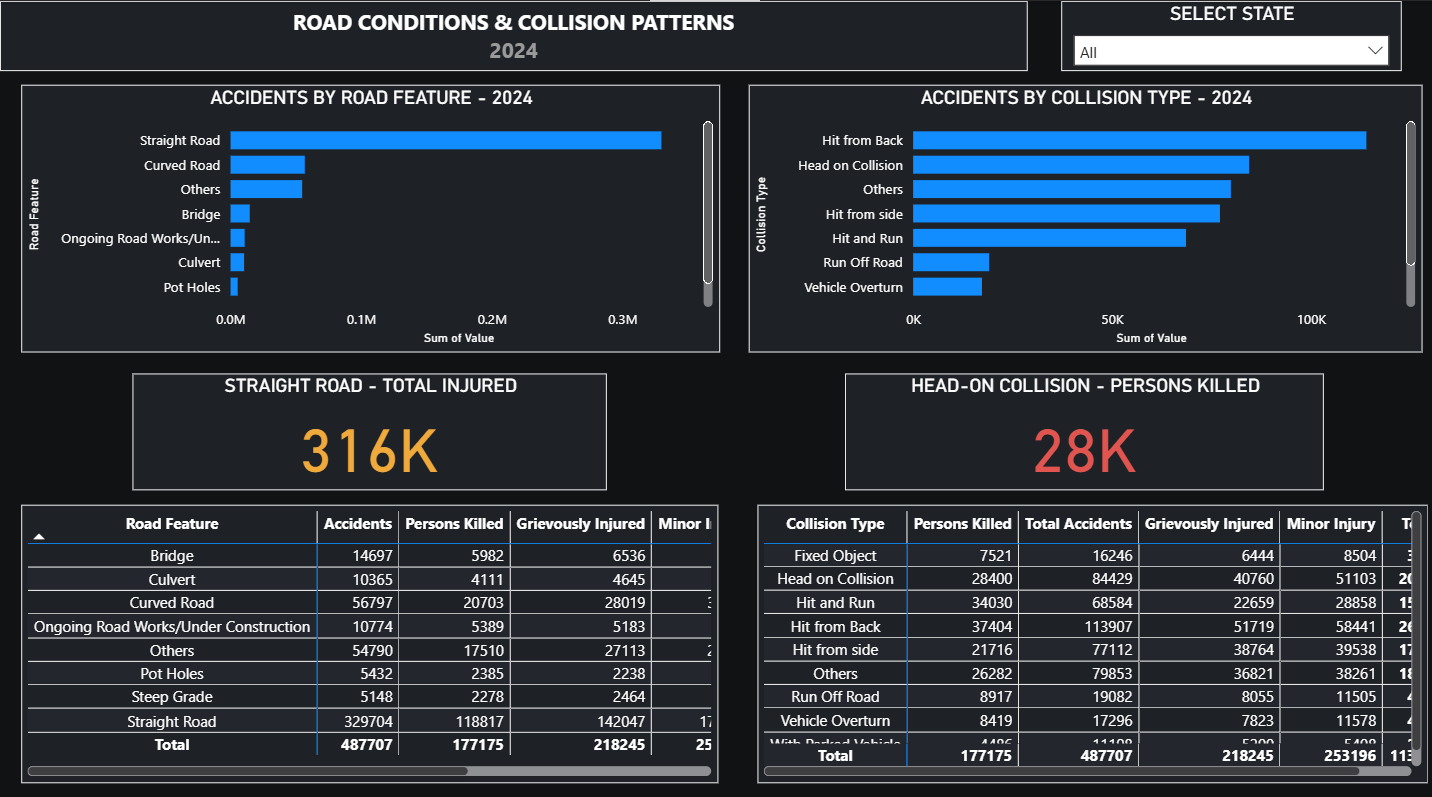

What the dashboard file says about the page in this screenshot:
{"tool":"powerbi","page":{"name":"Road & Collision Analysis","canvas":[1280,720],"ordinal":2},"visuals":[{"type":"textbox","box":[0,0,915.3,62.6],"z":0},{"type":"slicer","title":"SELECT STATE","fields":{"Values":["State Master.State/UT"]},"box":[944.8,0,303.1,62.6],"z":1000},{"type":"clusteredBarChart","title":"ACCIDENTS BY ROAD FEATURE - 2024","fields":{"Category":["Road Features (2024).Road Feature"],"Y":["Sum(Road Features (2024).Value)"]},"box":[18.4,74.8,622.1,238],"z":2000},{"type":"clusteredBarChart","title":"ACCIDENTS BY COLLISION TYPE - 2024","fields":{"Category":["Collision Types (2024).Collision Type"],"Y":["Sum(Collision Types (2024).Value)"]},"box":[666.3,74.8,600,238],"z":3000},{"type":"card","title":"STRAIGHT ROAD - TOTAL INJURED","fields":{"Values":["Sum(Road Features (2024).Value)"]},"box":[118,332.1,422.6,104.3],"z":4000},{"type":"card","title":"HEAD-ON COLLISION - PERSONS KILLED","fields":{"Values":["Sum(Collision Types (2024).Value)"]},"box":[752,332.1,426.8,104.3],"z":5000},{"type":"pivotTable","fields":{"Rows":["Road Features (2024).Road Feature"],"Columns":["Road Features (2024).Measure"],"Values":["Sum(Road Features (2024).Value)"]},"box":[18.4,449.1,620.9,247.9],"z":6000},{"type":"pivotTable","fields":{"Rows":["Collision Types (2024).Collision Type"],"Columns":["Collision Types (2024).Measure"],"Values":["Sum(Collision Types (2024).Value)"]},"box":[674.9,449.1,597.5,247.9],"z":7000}]}

Visuals, with their boxes in screenshot pixels (x1, y1, x2, y2), scaled from the page's 1280x720 canvas onto the 1432x797 screenshot:
textbox: 0 0 1024 69
"SELECT STATE" slicer: 1057 0 1396 69
"ACCIDENTS BY ROAD FEATURE - 2024" clusteredBarChart: 21 83 717 346
"ACCIDENTS BY COLLISION TYPE - 2024" clusteredBarChart: 745 83 1417 346
"STRAIGHT ROAD - TOTAL INJURED" card: 132 368 605 483
"HEAD-ON COLLISION - PERSONS KILLED" card: 841 368 1319 483
pivotTable - Road Features (2024).Road Feature x Road Features (2024).Measure: 21 497 715 772
pivotTable - Collision Types (2024).Collision Type x Collision Types (2024).Measure: 755 497 1423 772
